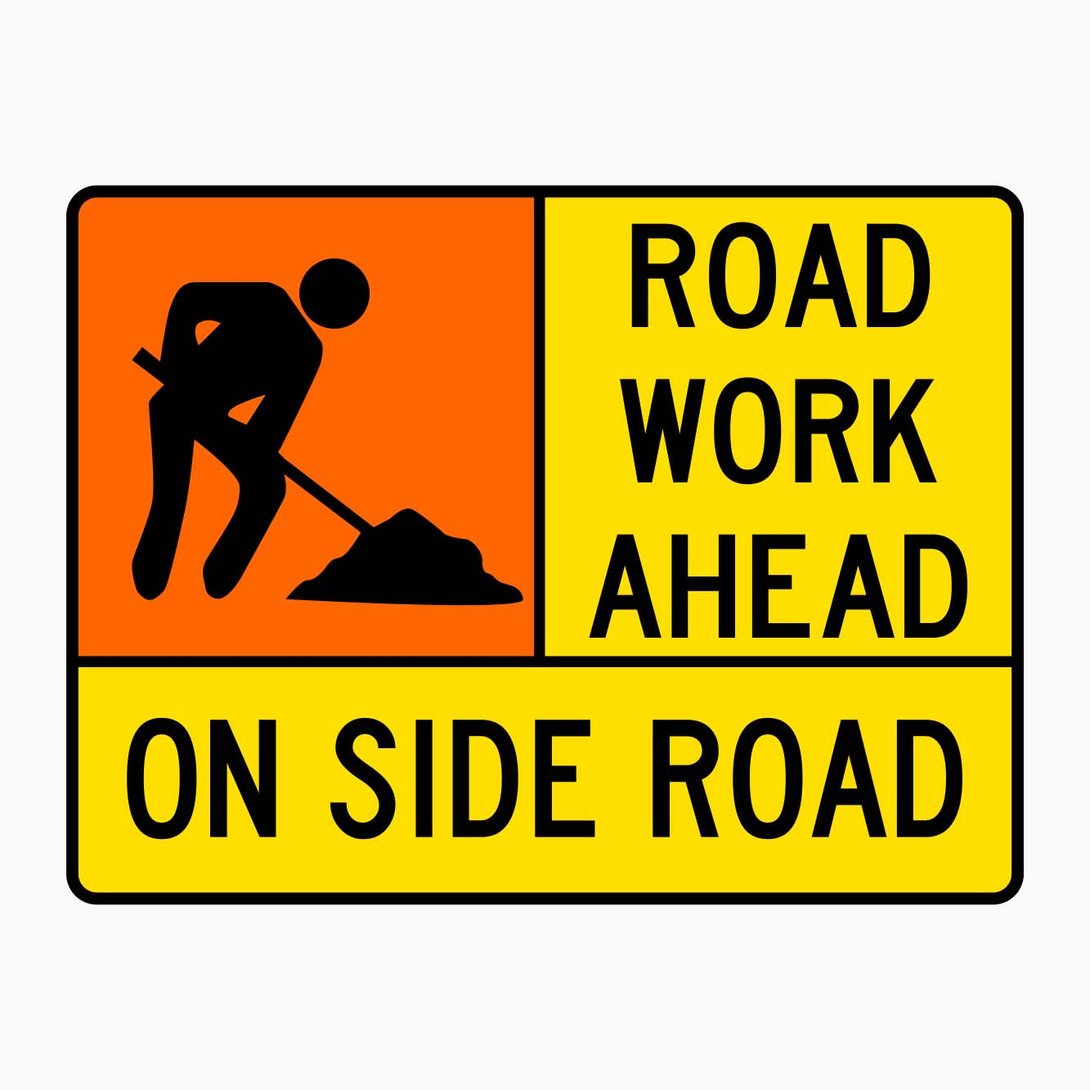Road_workahead: (55, 173, 1030, 914)
